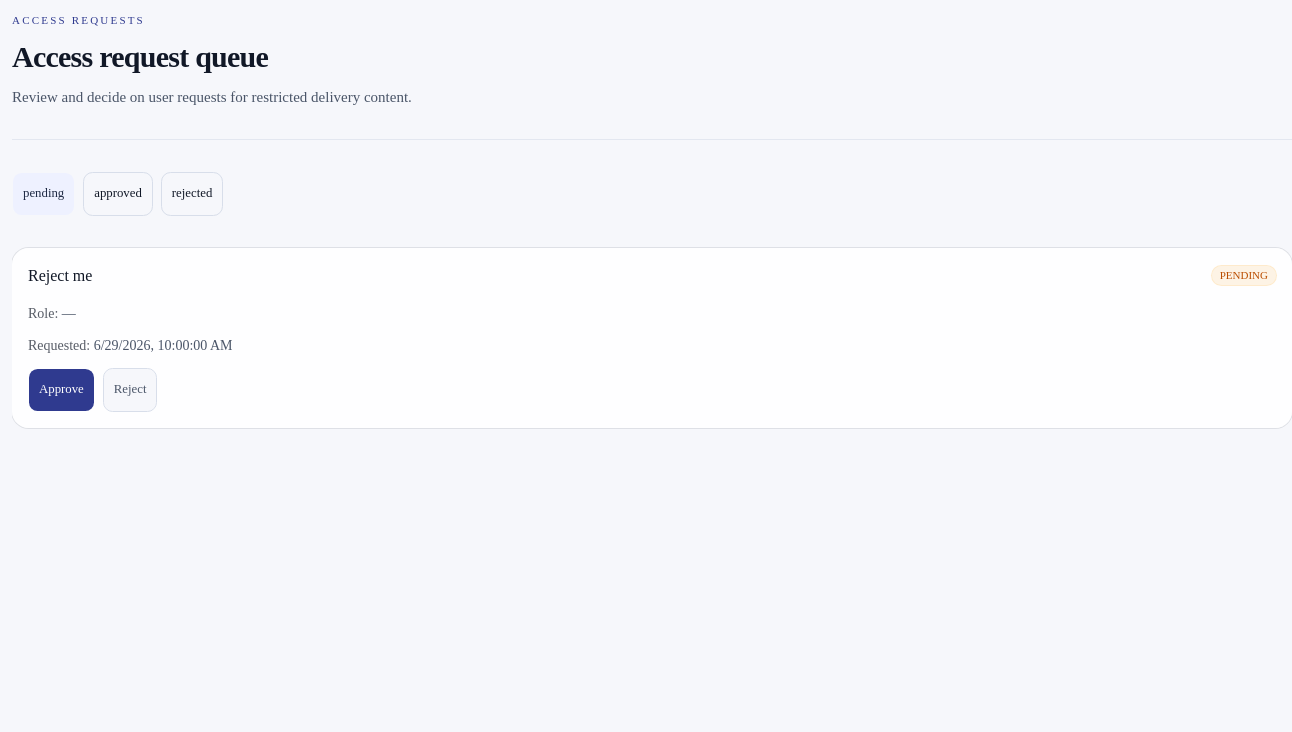
Test case: AccessRequestQueue › requires a reason before rejecting
expect the text "Reject me" is shown: met, box [28,264,92,288]
Click the button "Reject" at (130, 390), box [103,368,158,412]
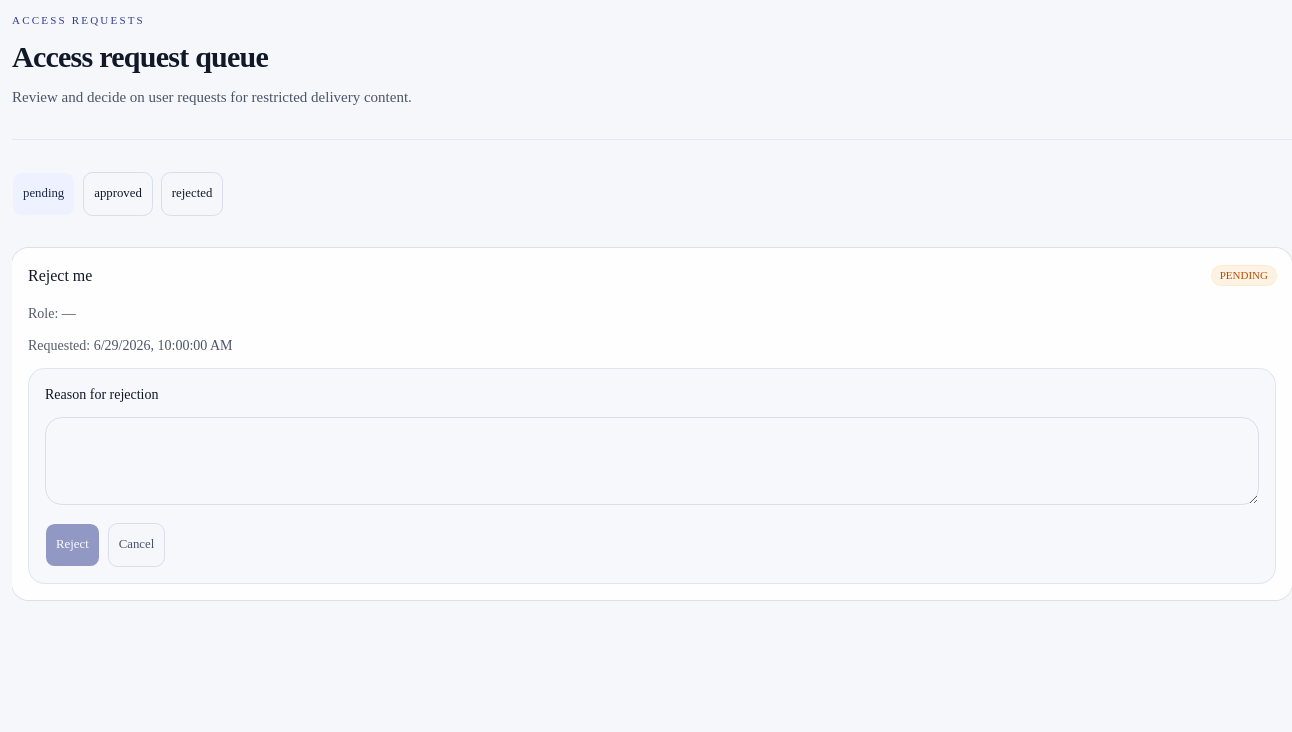
expect the button "Reject" is disabled: met, box [45,522,100,566]
